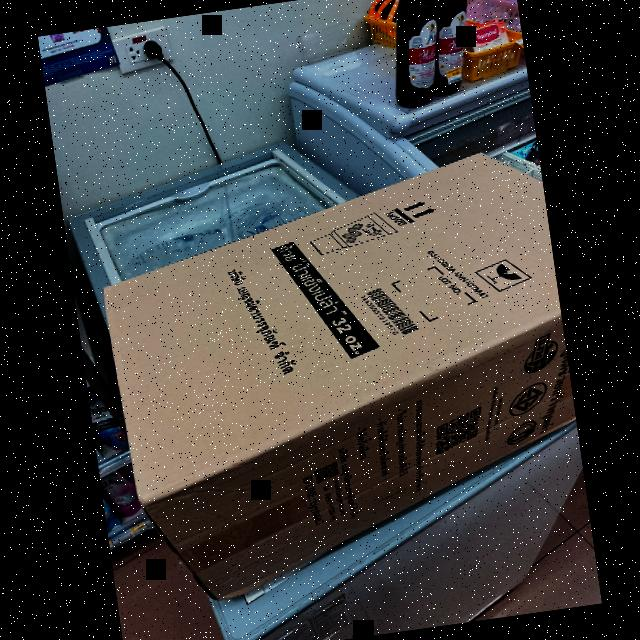cardboard_box: (72, 128, 594, 612)
